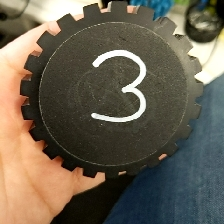gear: (17, 1, 205, 182)
